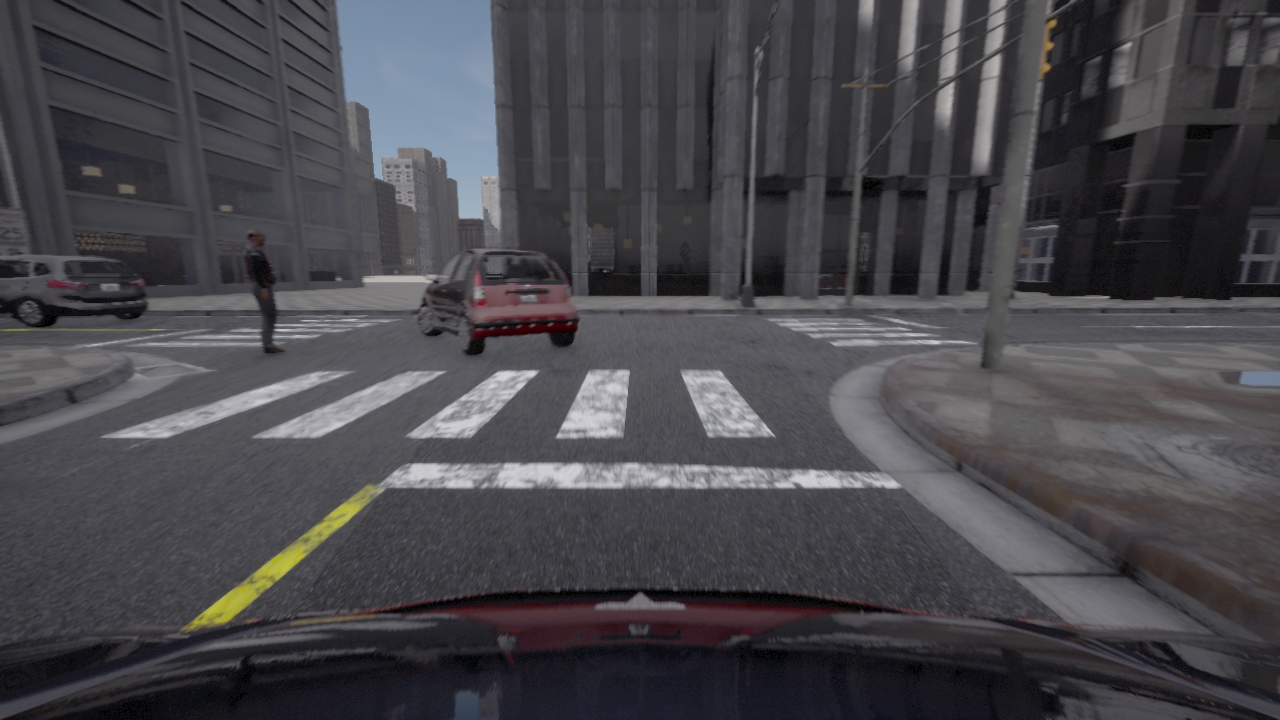cyclist: (0, 588, 1279, 719), (417, 249, 578, 355)
pedestrian: (245, 229, 285, 353)
